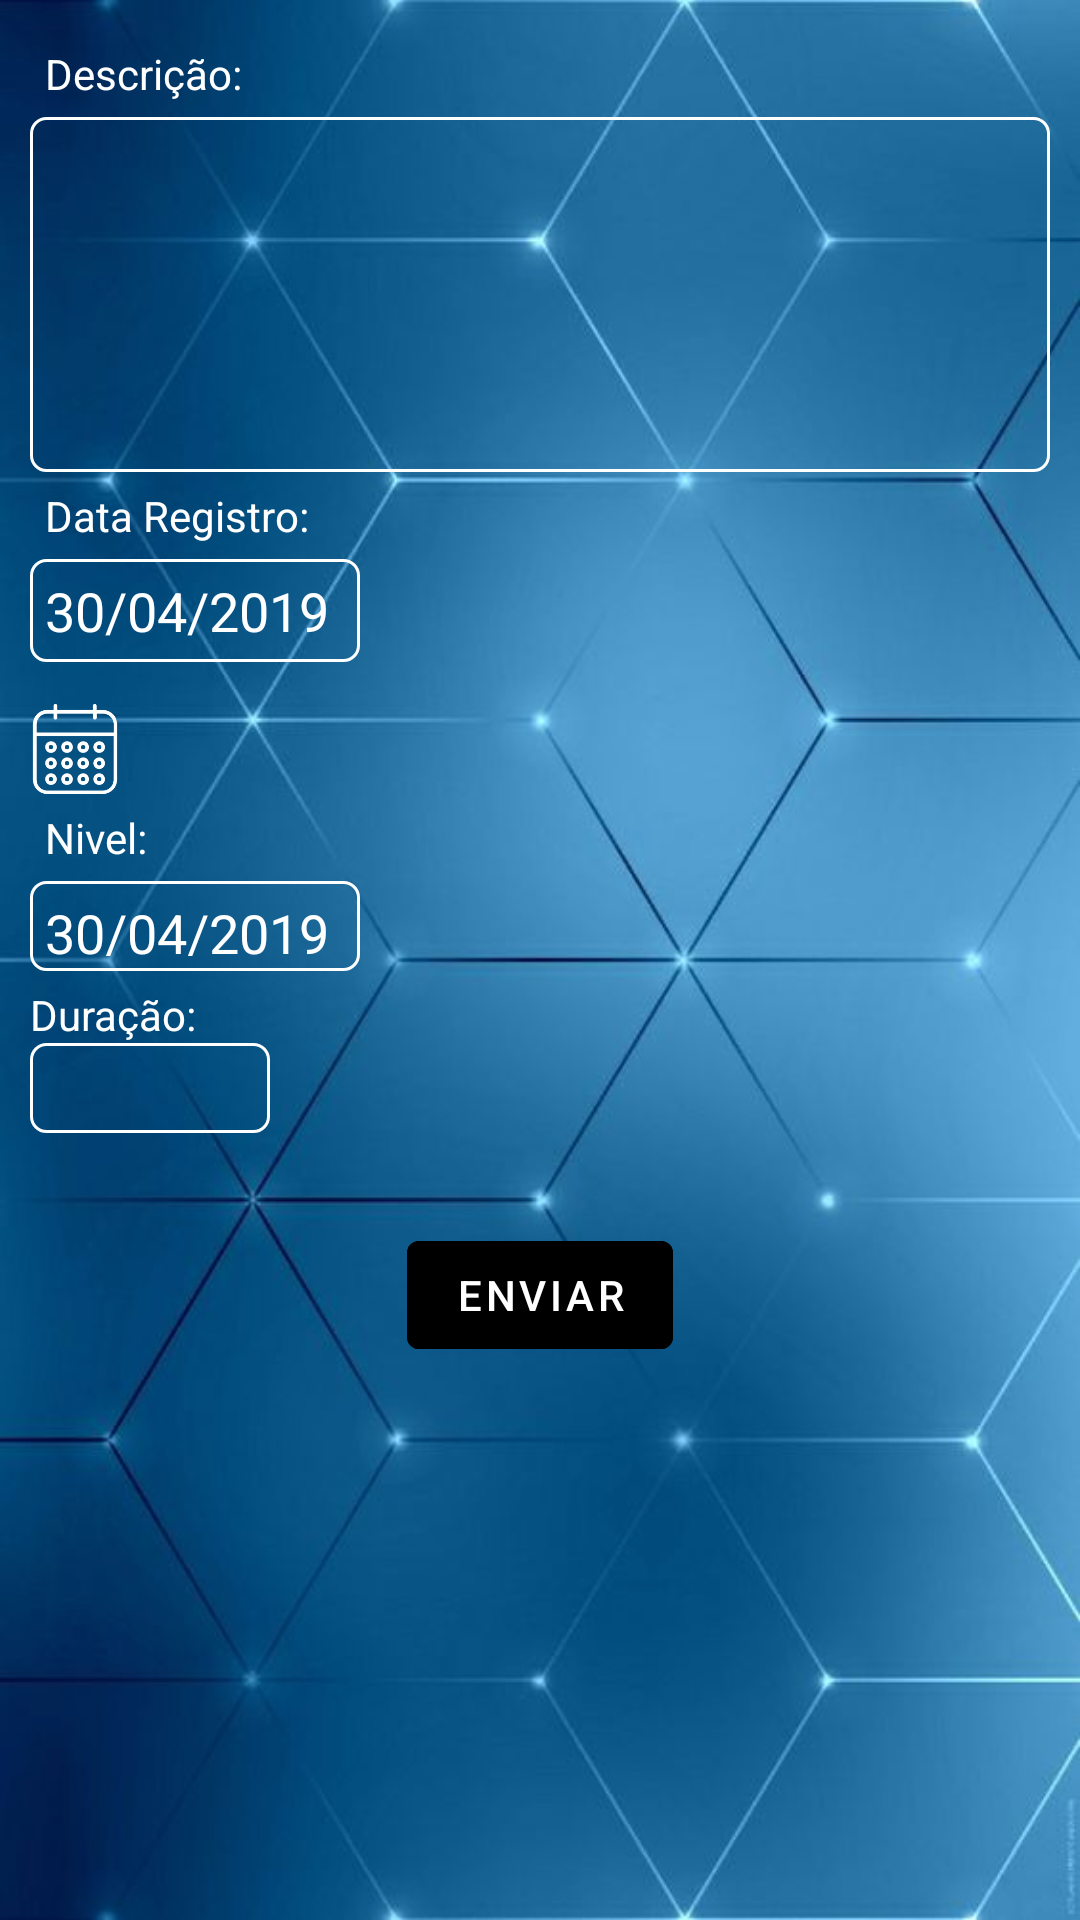

Icons on this 1080 x 1920 Android screen, each with its box as [x1=x1, y1=y1, x2=x2, y2=y2]:
calendar: [x1=30, y1=704, x2=120, y2=794]
